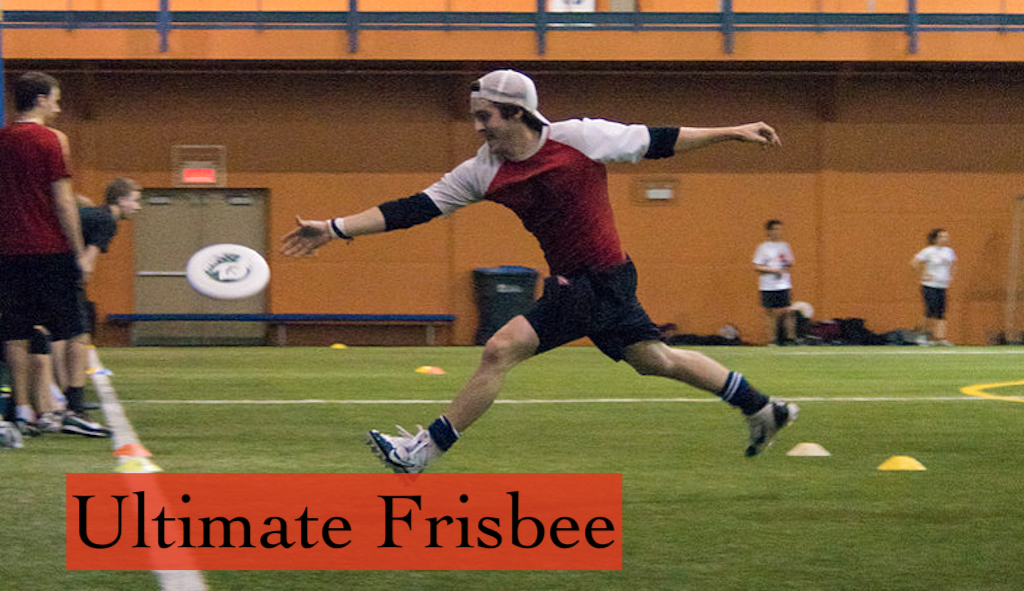disc: (187, 241, 279, 301)
